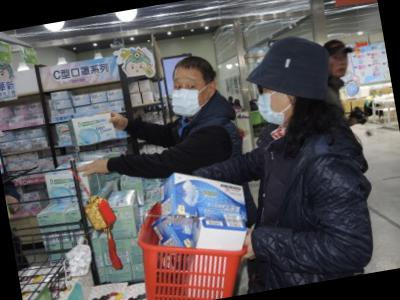with_mask: (167, 72, 212, 121), (254, 81, 291, 130)
without_mask: (327, 51, 352, 80)
